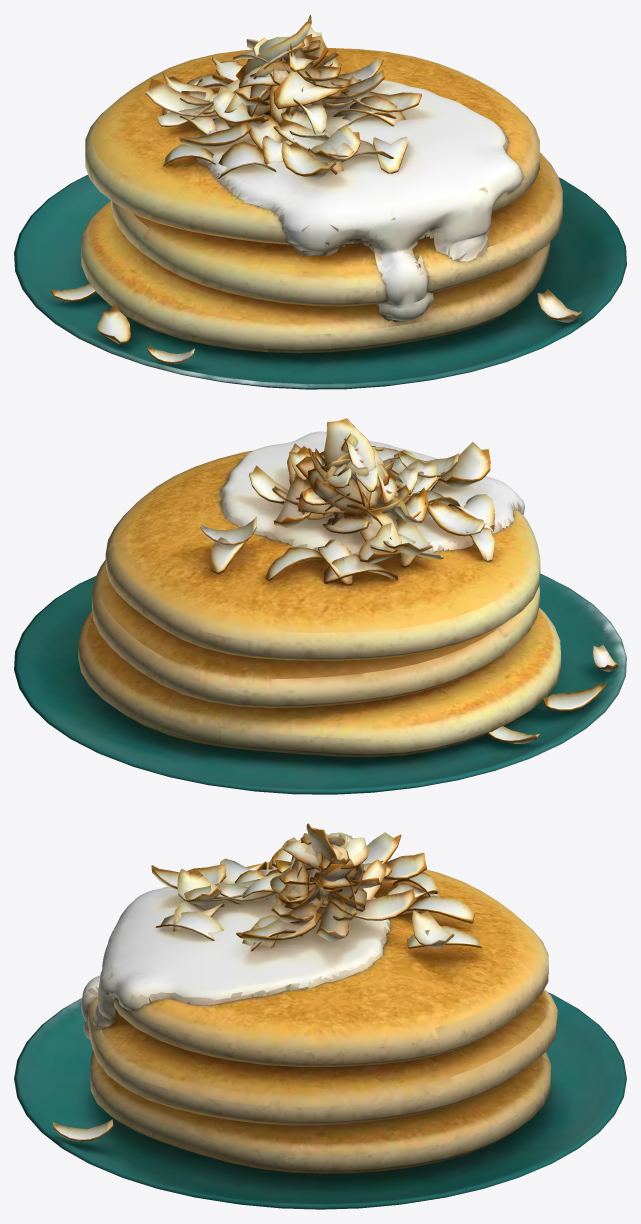
The model's file is pancake--coconut-dried.glb.
3 views of the same model, one above another, from view 1: azimuth 30°, elevation 25°; view 2: azimuth 150°, elevation 25°; view 3: azimuth 270°, elevation 25° (orthographic).
Visible parts, largest first — view 1: pancake_coconut-dried; view 2: pancake_coconut-dried; view 3: pancake_coconut-dried.
Part boxes in pixels (box(x1,y1,x2,y2)): pancake_coconut-dried: box(14, 14, 626, 389); pancake_coconut-dried: box(14, 418, 626, 794); pancake_coconut-dried: box(14, 823, 626, 1209).
Bounding box in the file's own units: 1.25 × 0.6082 × 1.25.
Materials: 1 (1 with a texture image).
